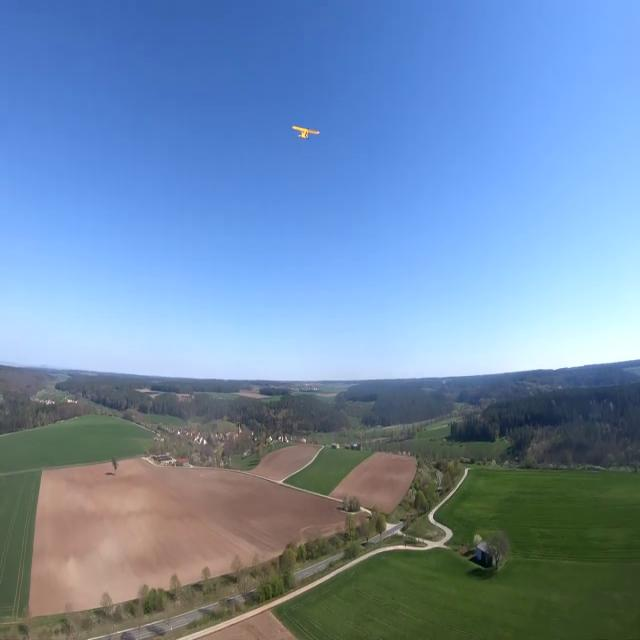iha: (288, 124, 323, 144)
